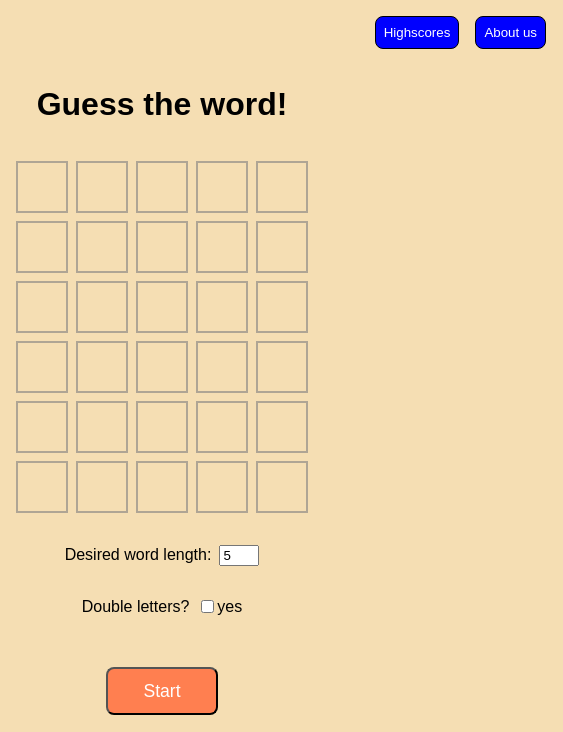
Word game app › starts a game correctly
Step 1. Click the button "Start" → x=162, y=691, box [106,667,218,715]
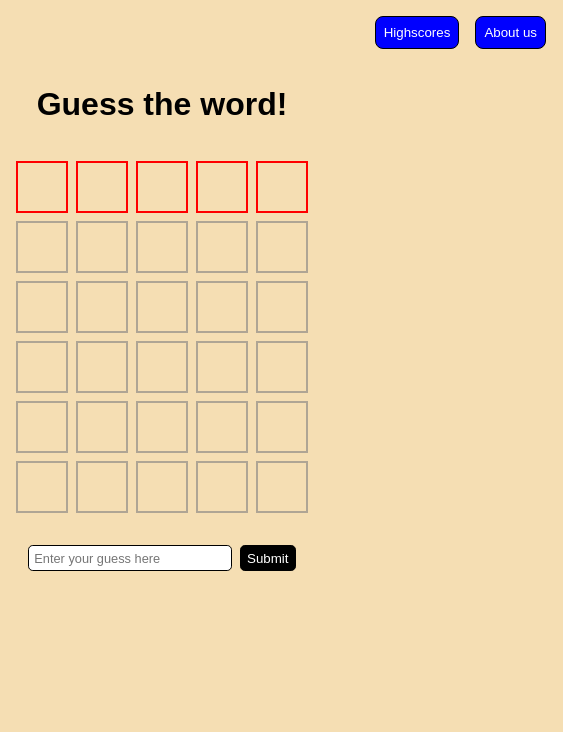
Check: the element with class "input__guess" is shown, box [29,545,296,572]
